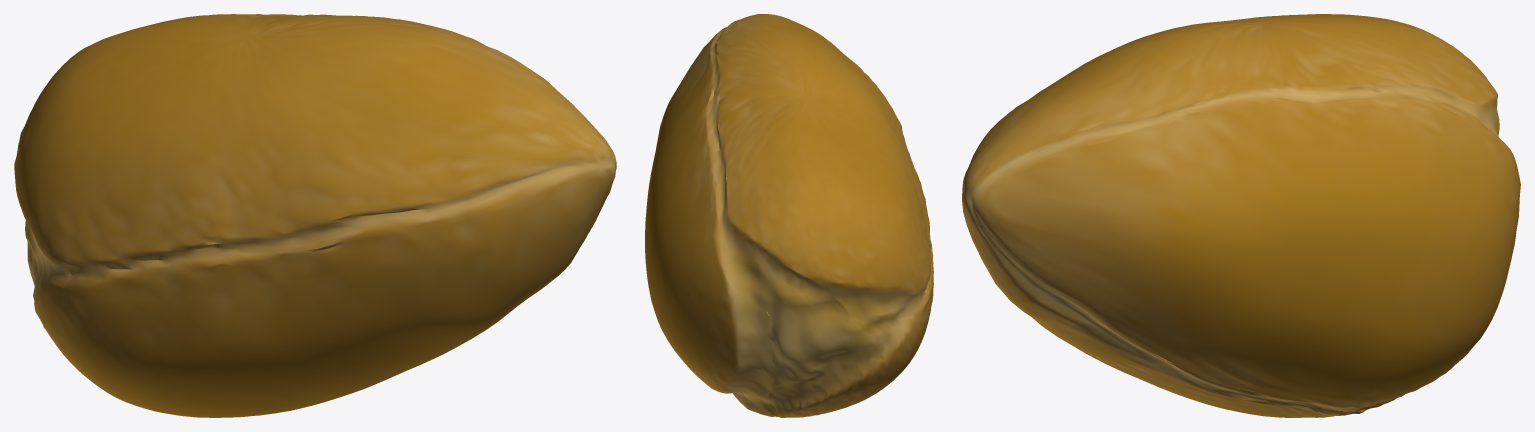
Rendered from argan_seed.glb.
The picture shows the model from 3 angles, left to right: view 1: azimuth 30°, elevation 25°; view 2: azimuth 150°, elevation 25°; view 3: azimuth 270°, elevation 25°; orthographic projection. The views are drawn at different scales.
Parts seen in each view (by area): view 1: Object_2; view 2: Object_2; view 3: Object_2.
Boxes of the visible parts, bbox=[...] form: Object_2: bbox=[14, 14, 616, 417]; Object_2: bbox=[645, 14, 933, 417]; Object_2: bbox=[962, 14, 1520, 417].
Size of the model in its own units: 3.02 by 2.81 by 3.53.
